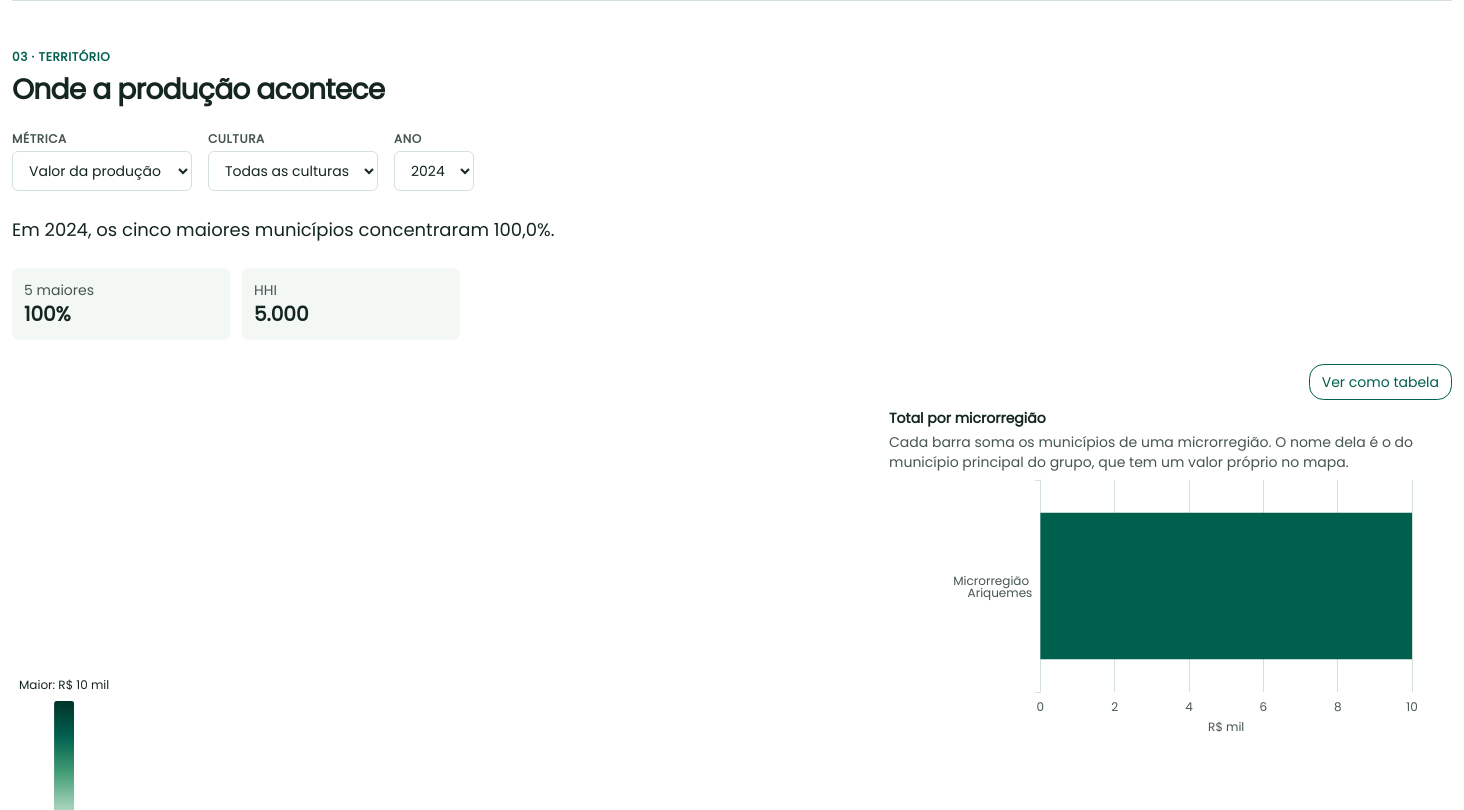
Scenario: BlocoTerritorio › consulta com os filtros do bloco e mostra sigiloso/sem dado como texto na tabela
Check: the text with test id "manchete" shows "concentraram 100,0%", box [12,217,554,242]
Click the button "Ver como tabela": (1380, 382) [1309,364,1452,400]
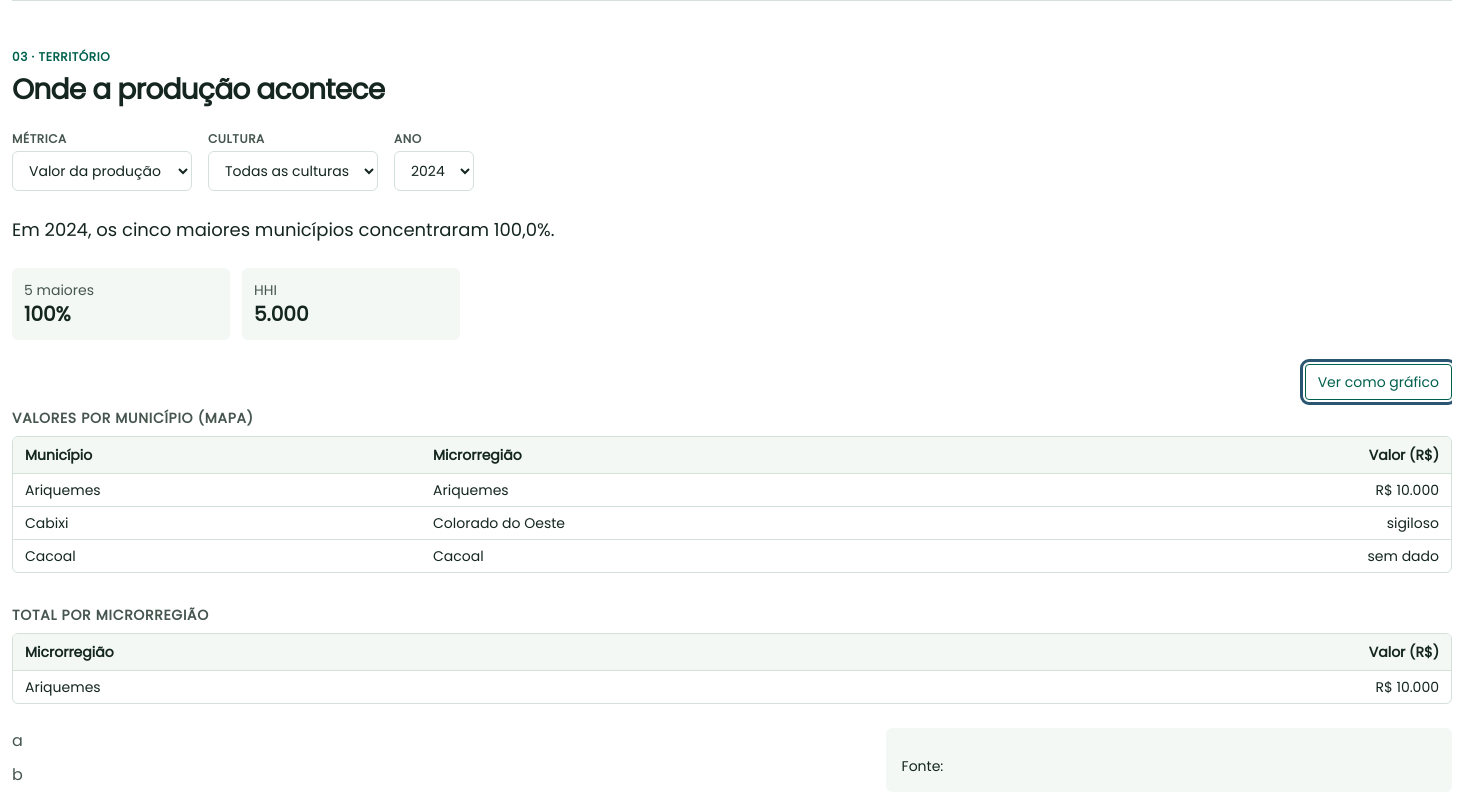
Check: the text "Cabixi" does not show "0", box [13,507,1451,540]
Check: the text "Cabixi" shows "sigiloso", box [1387,513,1439,533]
Check: the text "Cacoal" shows "sem dado", box [1368,546,1439,566]
